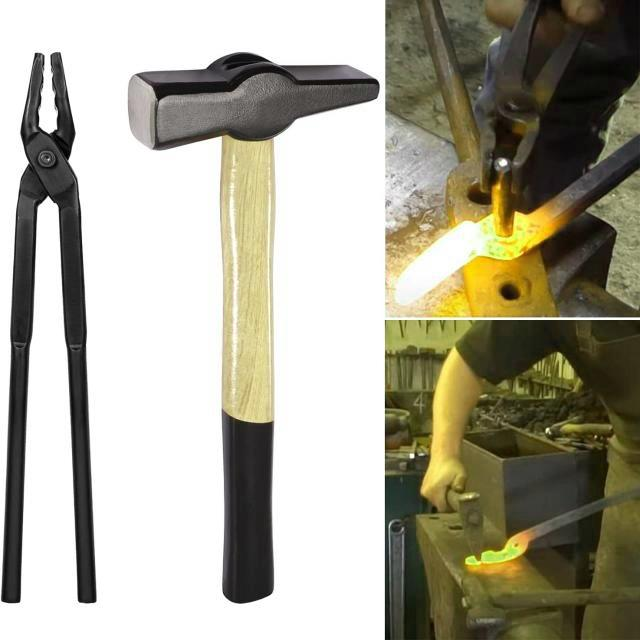hammer: (123, 44, 379, 616), (434, 480, 496, 586)
